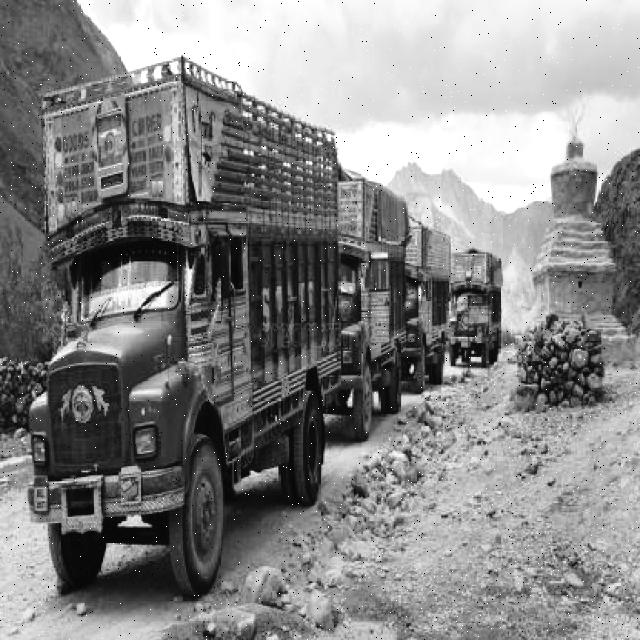HCV: (51, 93, 328, 552), (340, 148, 409, 426), (386, 203, 461, 384), (448, 251, 498, 381)
